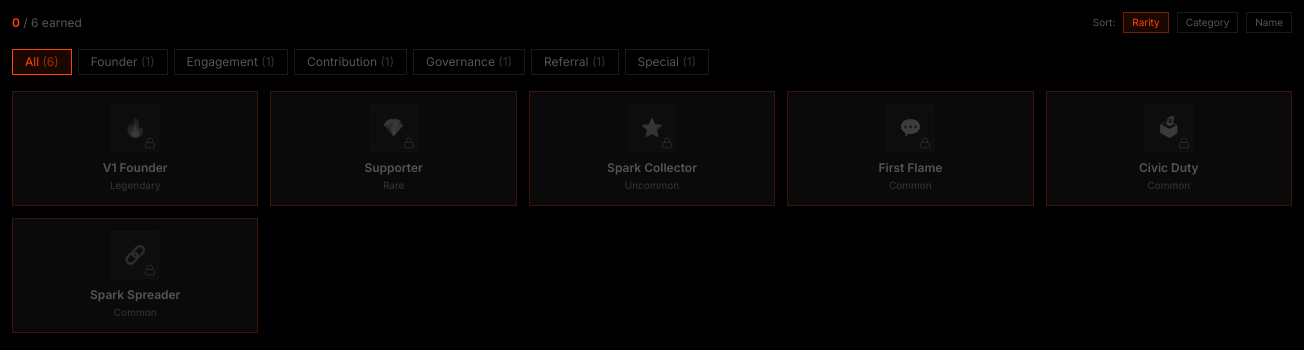
Test: BadgeGallery › filters back to all when All tab clicked
// Click Founder then All
Click the button "Founder (1)": (123, 62) x1=78 y1=49 x2=168 y2=75
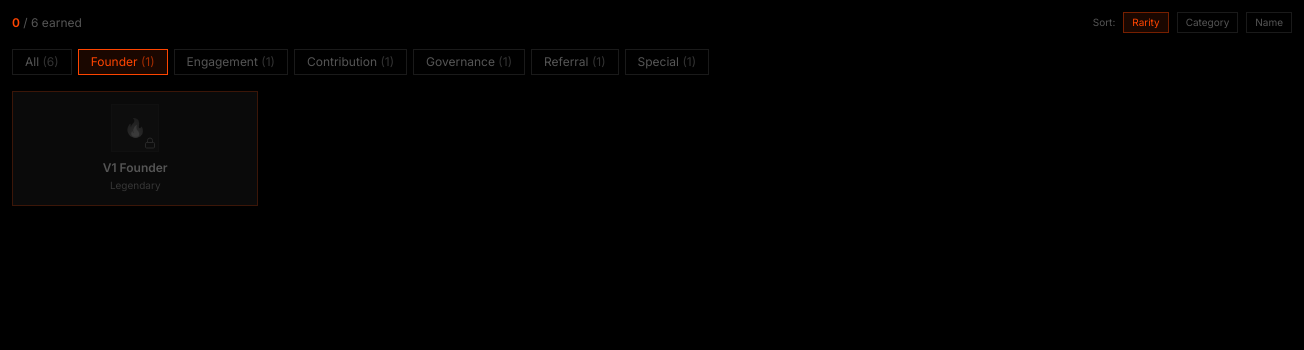
Check: the text "First Flame" is gone
Click the button "All (6)": (42, 62) x1=12 y1=49 x2=72 y2=75
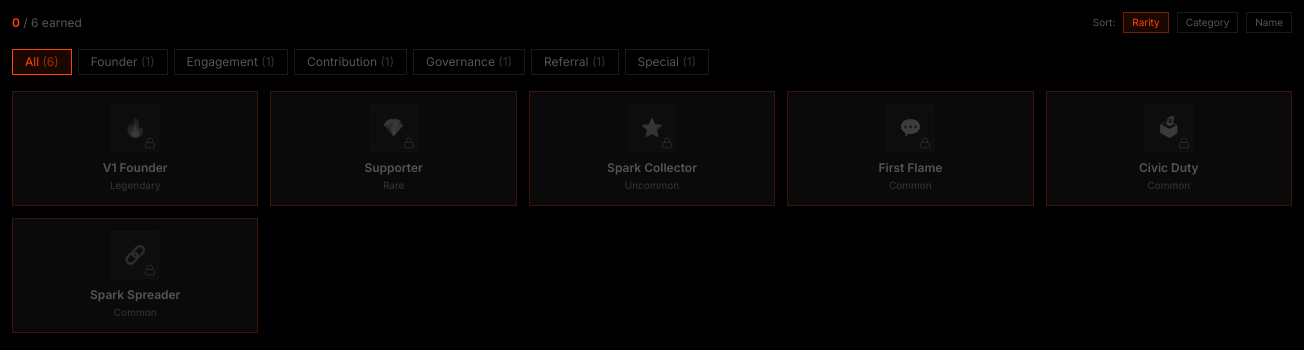
Check: the text "First Flame" is shown, box x1=878 y1=160 x2=942 y2=175
